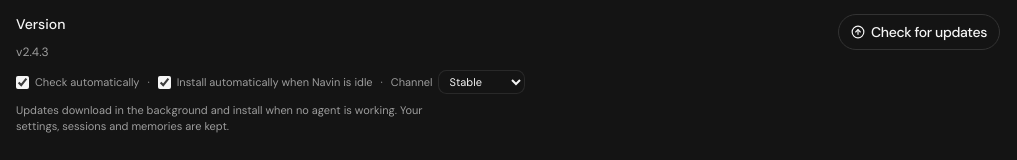
Test: VersionCheckRow update preferences › goes back to the saved choice when saving fails
Select "Beta" in the dropdown with test id "update-channel" at [482, 82], box [438,70,526,94]
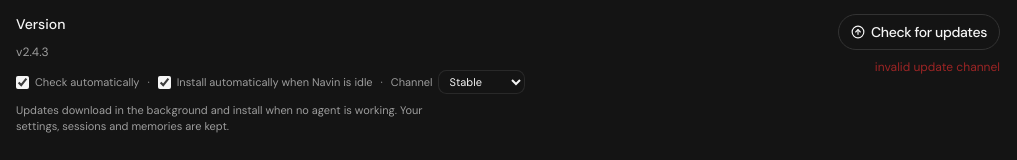
Expected: the text "invalid update channel" is shown, [875,58,1000,76]
